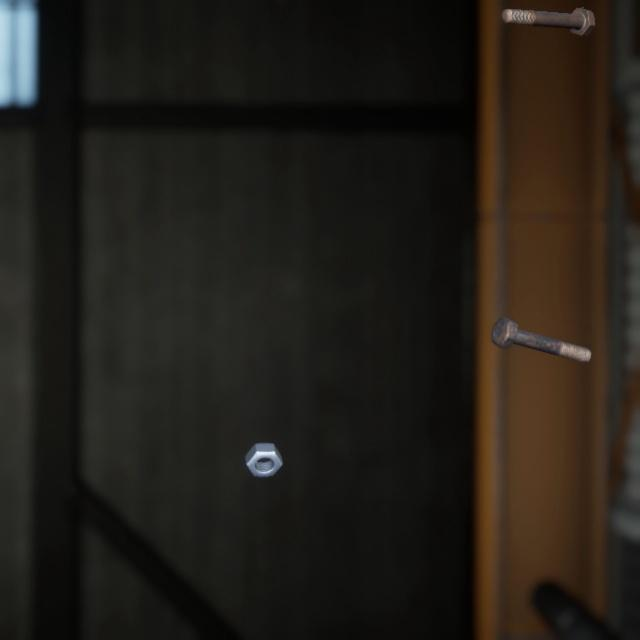bolt: (487, 293, 595, 349), (496, 0, 599, 33)
nut: (240, 417, 287, 460)
